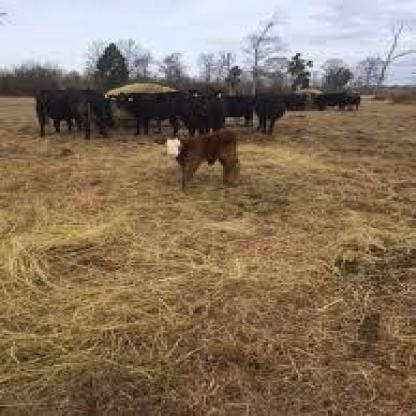cow: (156, 130, 242, 186), (37, 91, 117, 139), (106, 93, 183, 137), (182, 88, 230, 135), (251, 94, 287, 134)
